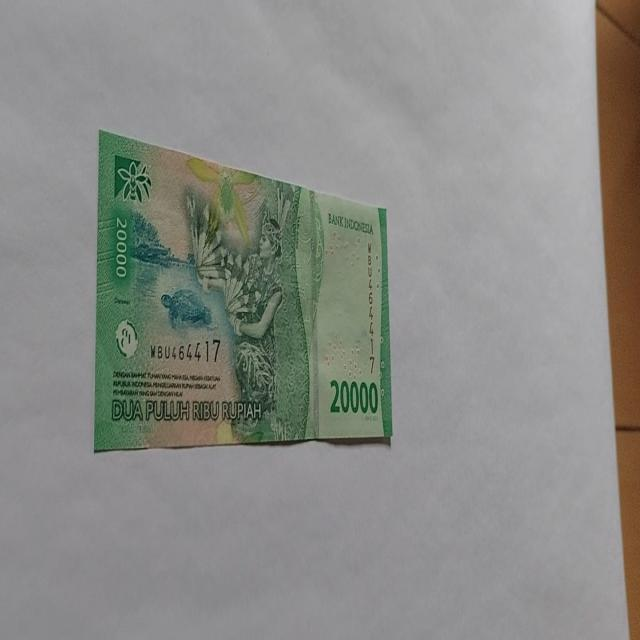dua puluh ribu rupiah: (93, 127, 393, 453), (182, 173, 322, 443)
